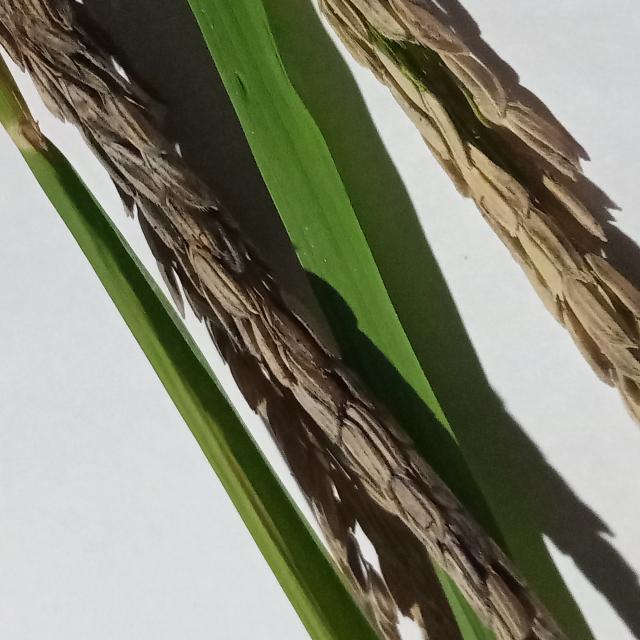Neck_Blast: (0, 0, 587, 640), (310, 0, 640, 447)
